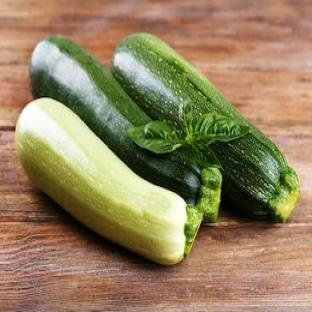Zucchini: (30, 36, 221, 221), (112, 34, 299, 221), (16, 99, 202, 265)
